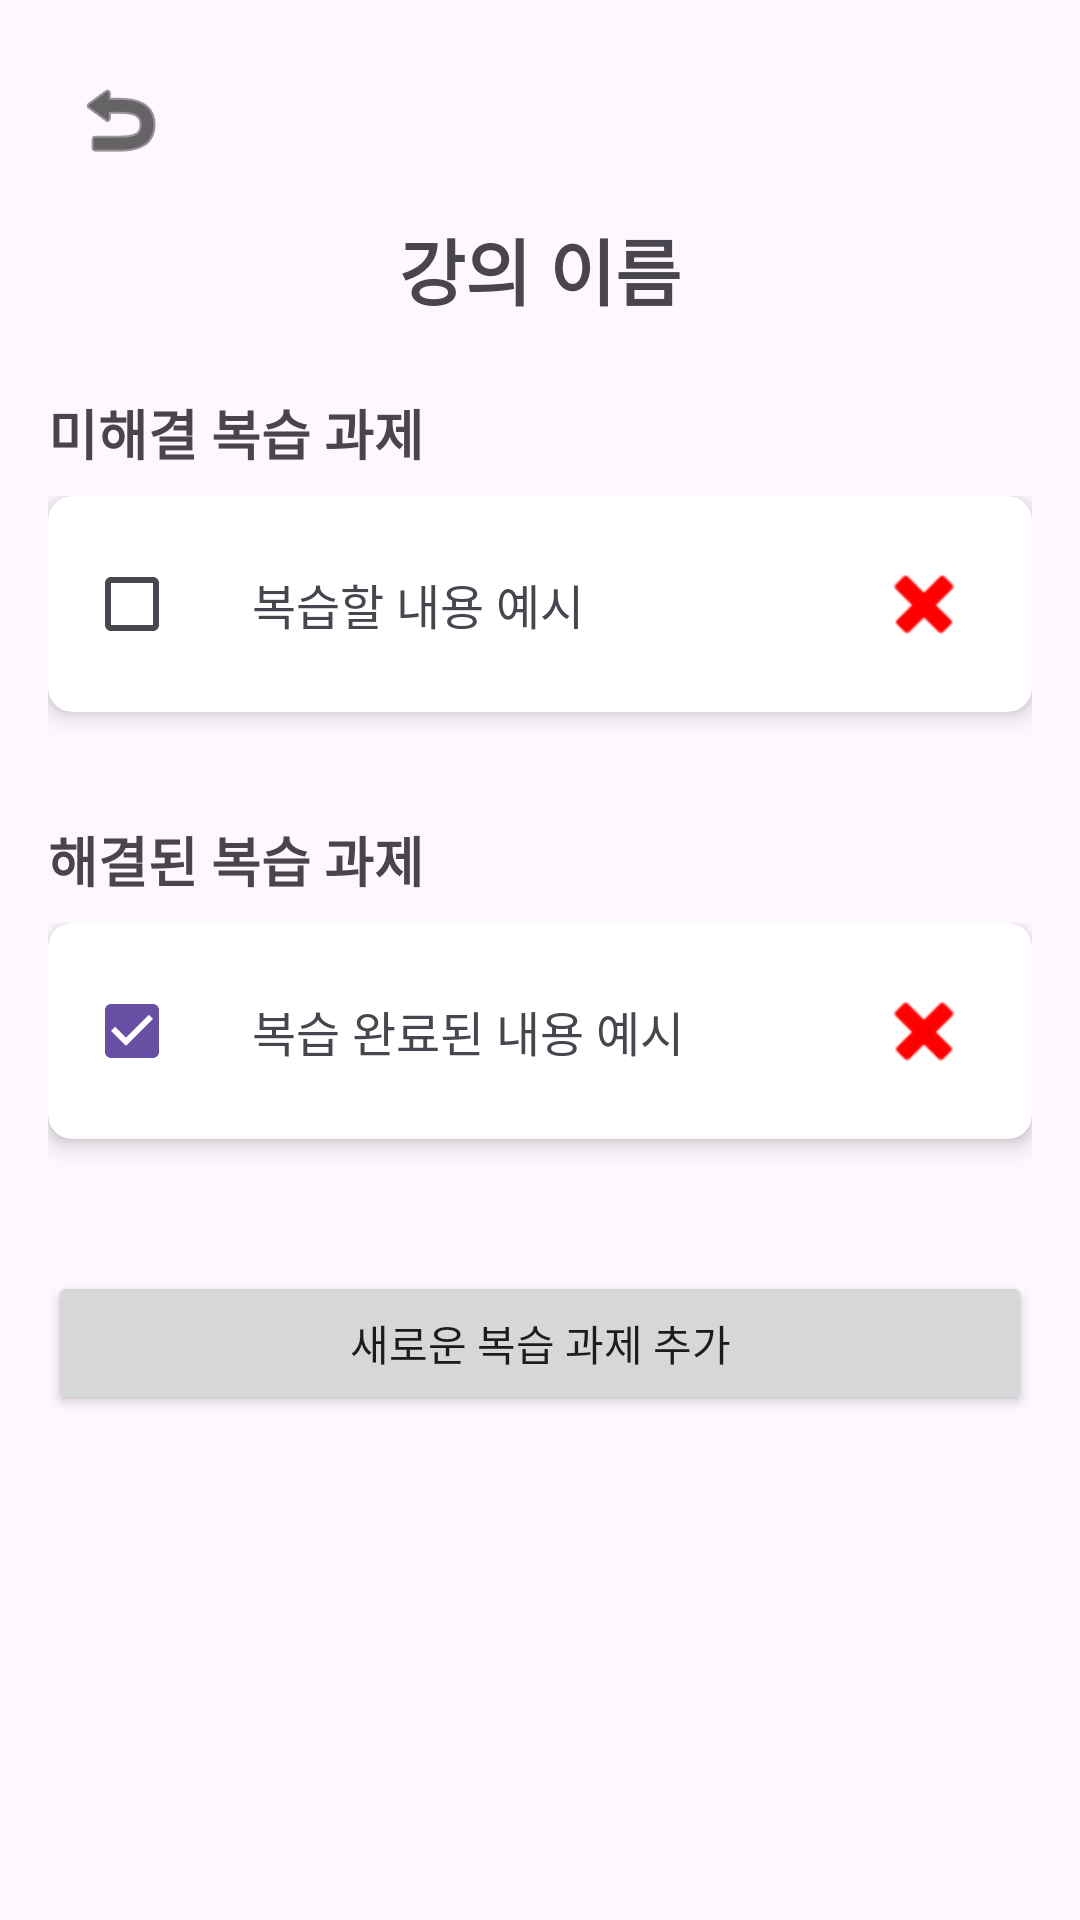

Where icons sit on this 1080×1920 app screen, as rect(x1, y1, x2, y2):
뒤로가기: rect(87, 89, 156, 152)
삭제: rect(893, 575, 955, 634), rect(893, 1002, 955, 1061)
